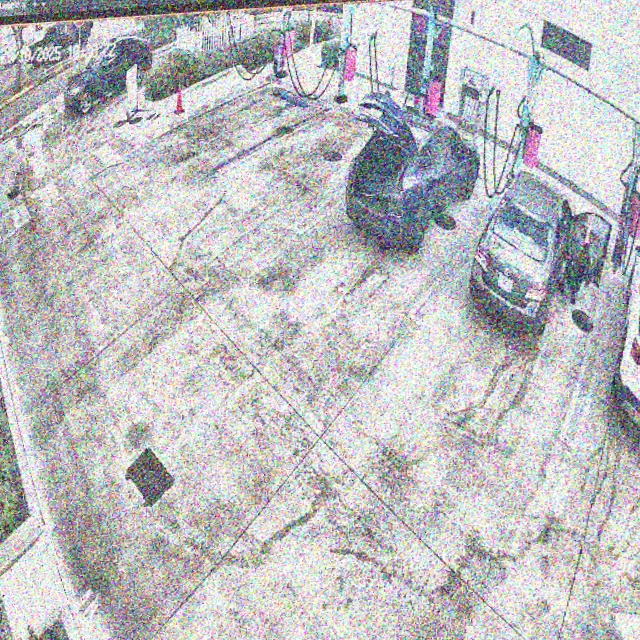Car: (344, 87, 482, 247)
